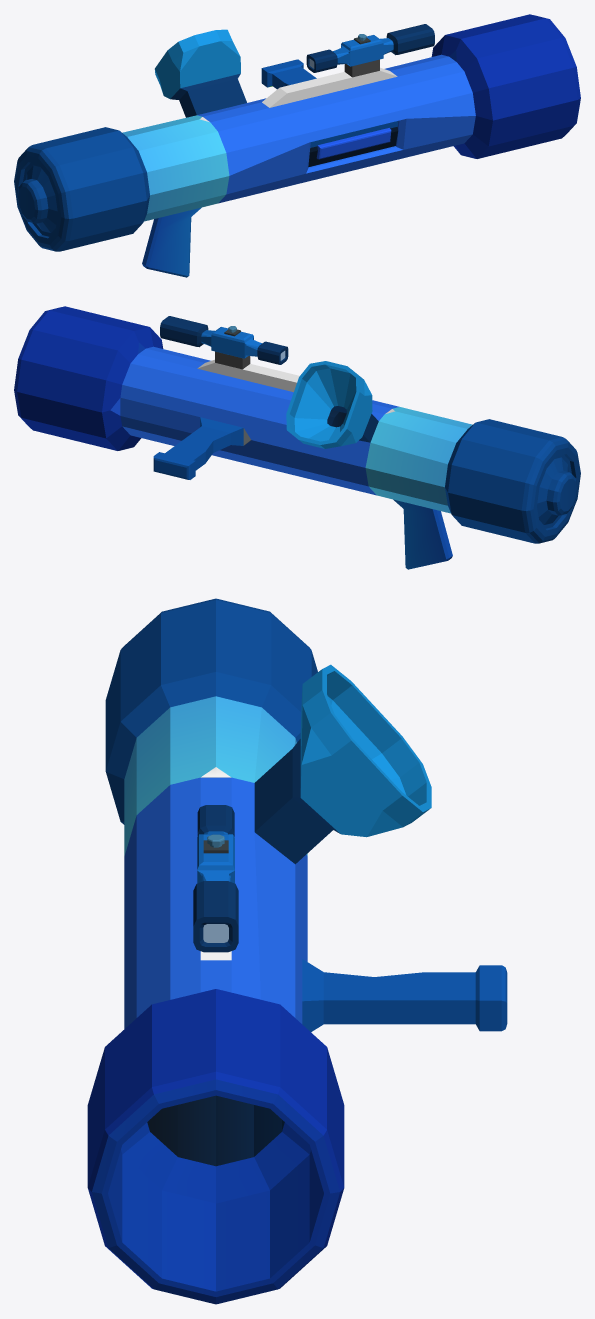
File: STICKYBOMB (2).fbx
The picture shows the model from 3 angles, top to bottom: view 1: azimuth 30°, elevation 25°; view 2: azimuth 150°, elevation 25°; view 3: azimuth 270°, elevation 25°; orthographic projection. The views are drawn at different scales.
Parts seen in each view (by area): view 1: Cylinder.007; view 2: Cylinder.007; view 3: Cylinder.007.
Part boxes in pixels (x1,y1,x2,y2): Cylinder.007: (14, 14, 580, 277); Cylinder.007: (14, 306, 580, 569); Cylinder.007: (87, 598, 507, 1304).
Bounding box in the file's own units: 107 × 41.36 × 36.92.
Materials: 1 (1 with a texture image).
